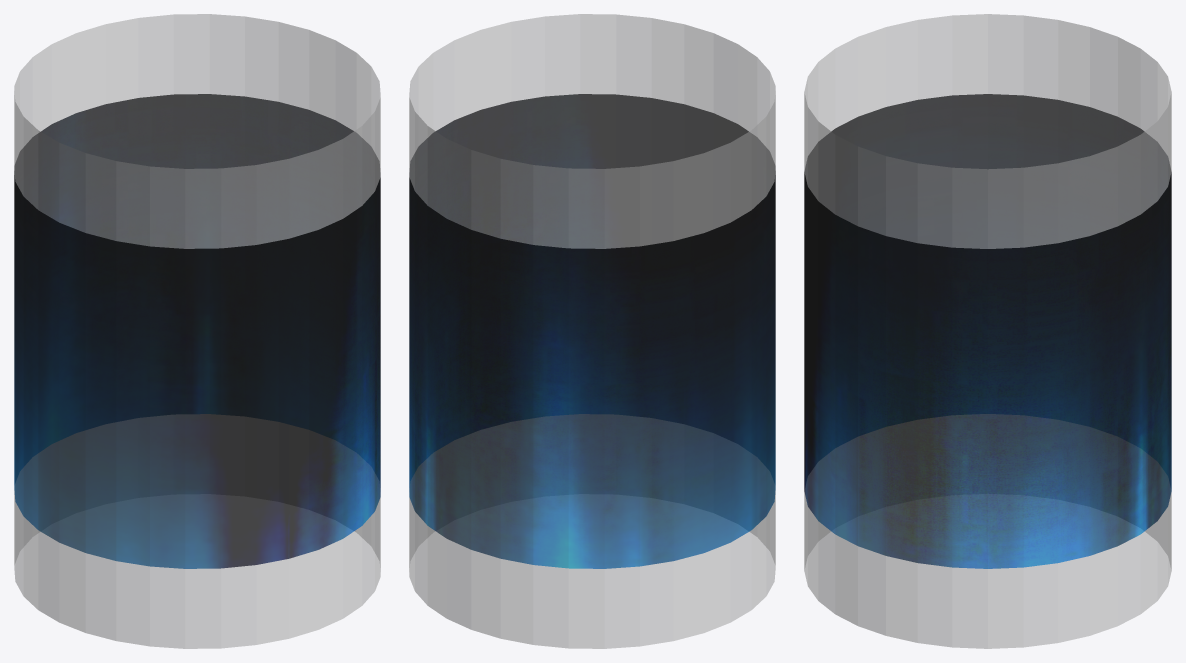
File: texture 279.fbx
3 views of the same model, side by side, from view 1: azimuth 30°, elevation 25°; view 2: azimuth 150°, elevation 25°; view 3: azimuth 270°, elevation 25° (orthographic).
Visible parts, largest first — view 1: Texture; view 2: Texture; view 3: Texture.
Part boxes in pixels (left/top/right/bottom): Texture: left=14, top=14, right=380, bottom=648; Texture: left=409, top=14, right=775, bottom=648; Texture: left=804, top=14, right=1171, bottom=648.
Bounding box in the file's own units: 138 × 199 × 138.
